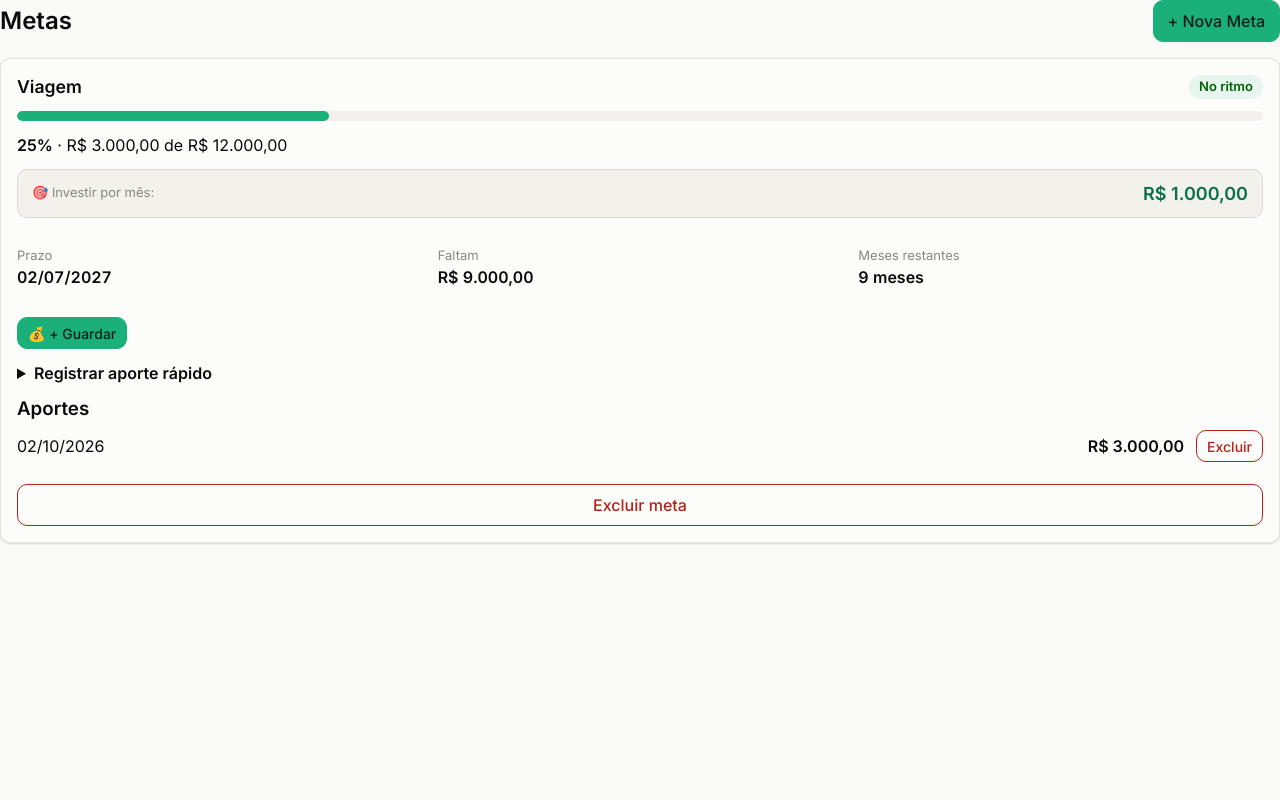
Scenario: GoalsPage › opens the contribute modal when clicking Guardar
Click the button with aria-label "Guardar dinheiro na meta Viagem": click(72, 333) [17, 317, 127, 349]
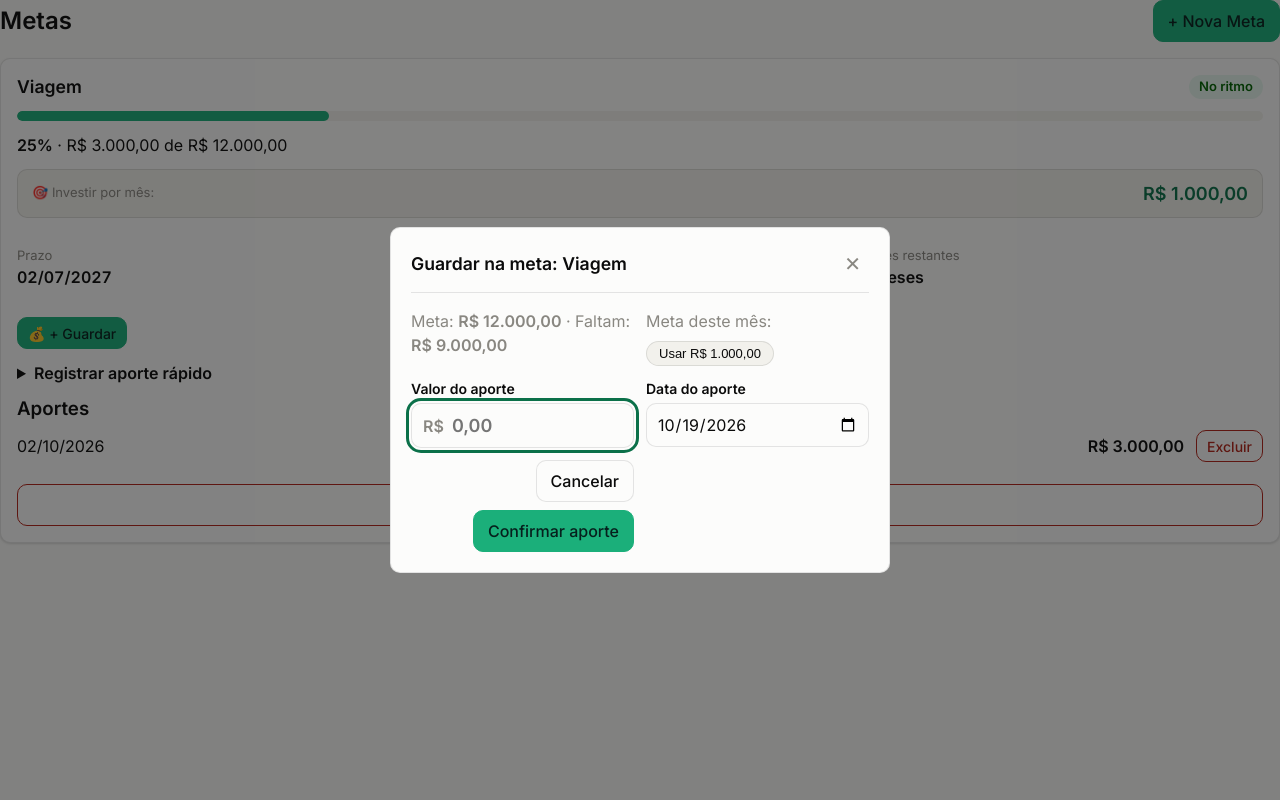
Expected: the dialog "Guardar na meta: Viagem" is shown, [390, 227, 890, 573]
